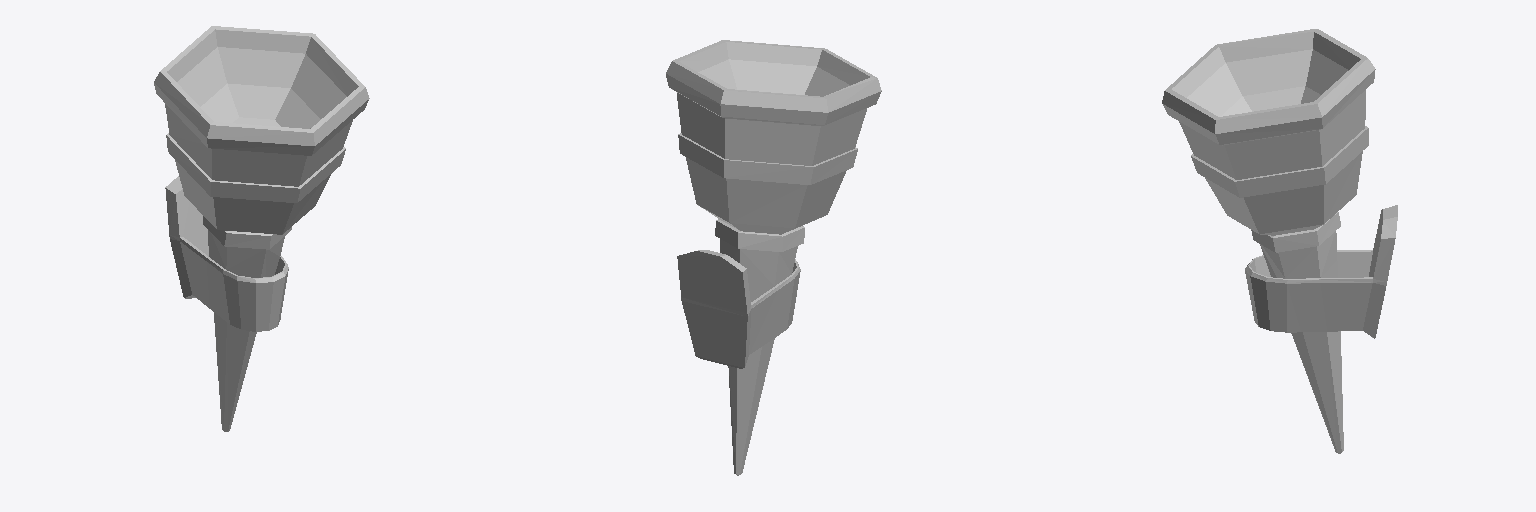
Rendered from torcia_muro.obj.
3 renders of one model, left to right at view 1: azimuth 30°, elevation 25°; view 2: azimuth 150°, elevation 25°; view 3: azimuth 270°, elevation 25°, orthographic.
Visible parts, largest first — view 1: retopo_torcia; view 2: retopo_torcia; view 3: retopo_torcia.
Boxes of the visible parts, box(x1,y1,x2,y2) form: retopo_torcia: box(154, 26, 369, 431); retopo_torcia: box(666, 40, 881, 475); retopo_torcia: box(1162, 29, 1397, 453).
Size of the model in its own units: 41.07 by 95.33 by 51.57.